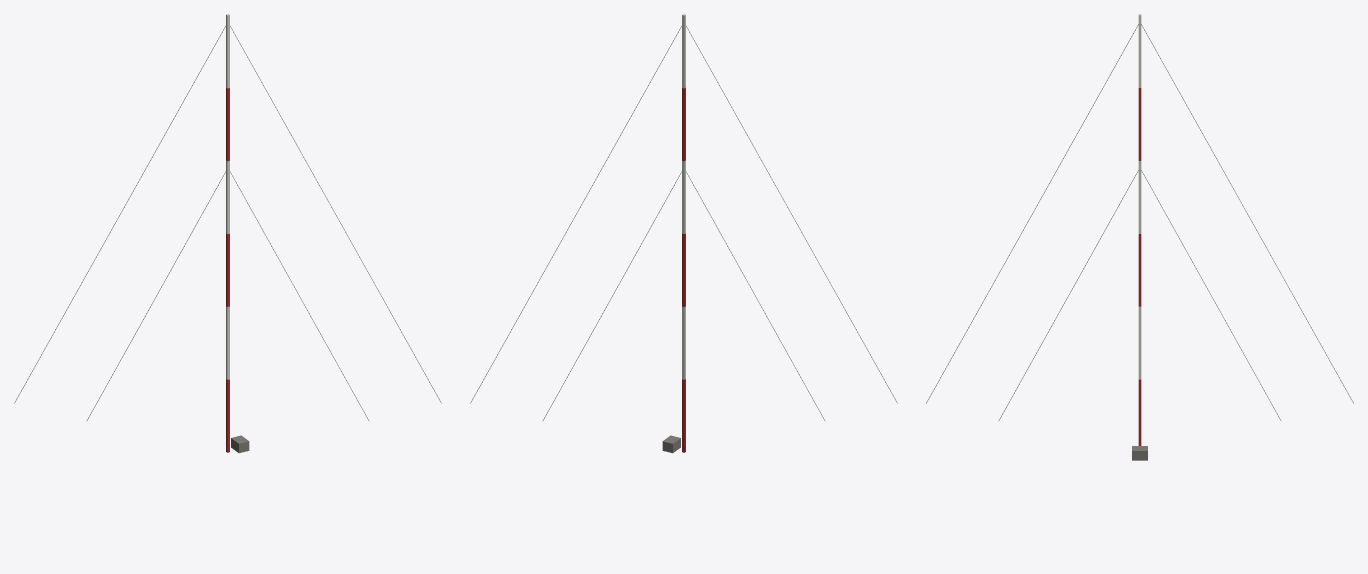
File: mark-mast.glb
3 views of the same model, side by side, from view 1: azimuth 30°, elevation 25°; view 2: azimuth 150°, elevation 25°; view 3: azimuth 270°, elevation 25° (orthographic).
Visible parts, largest first — view 1: 03_#3a3a40_noshadow, 01_#e0dcd0, 00_#b0342c; view 2: 03_#3a3a40_noshadow, 01_#e0dcd0, 00_#b0342c; view 3: 03_#3a3a40_noshadow, 01_#e0dcd0, 00_#b0342c.
Boxes of the visible parts, box(x1,y1,x2,y2) form: 03_#3a3a40_noshadow: box(14, 26, 441, 420); 01_#e0dcd0: box(226, 14, 229, 379); 00_#b0342c: box(226, 87, 229, 452); 03_#3a3a40_noshadow: box(470, 26, 897, 420); 01_#e0dcd0: box(682, 14, 685, 379); 00_#b0342c: box(682, 87, 685, 452); 03_#3a3a40_noshadow: box(926, 24, 1353, 420); 01_#e0dcd0: box(1138, 14, 1141, 379); 00_#b0342c: box(1138, 88, 1141, 445).
Size of the model in its own units: 92.12 by 121 by 106.
